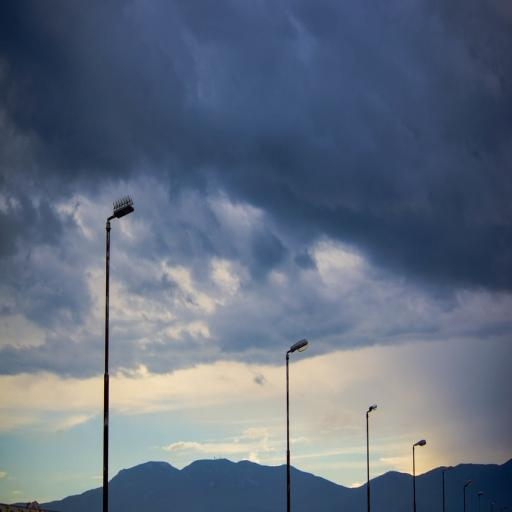off street light: (98, 185, 150, 512), (278, 332, 308, 512), (355, 394, 385, 512), (410, 438, 427, 512)
